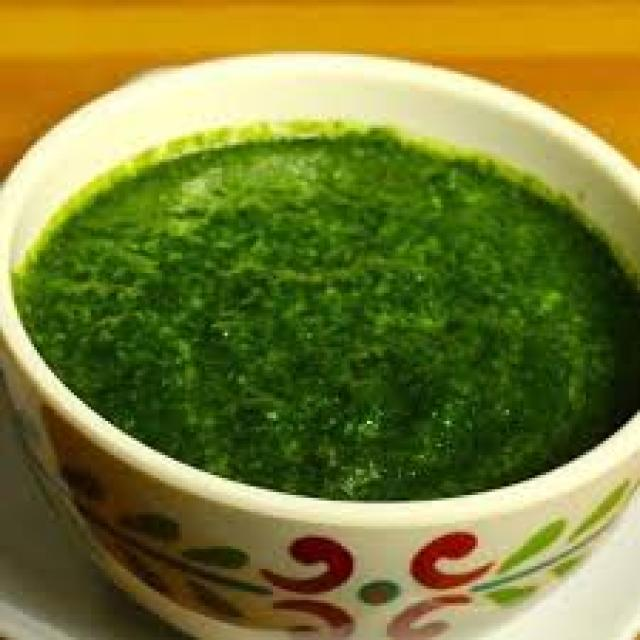GREEN CHUTNEY: (14, 134, 637, 498)
